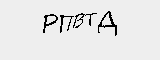В: (73, 10, 84, 29)
Д: (95, 9, 118, 35)
П: (56, 12, 73, 34)
Р: (39, 11, 58, 35)
Т: (83, 10, 100, 28)
